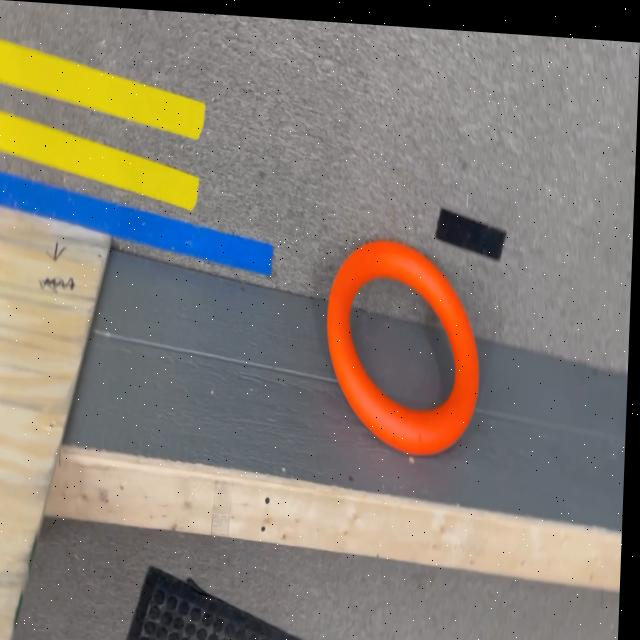note: (325, 234, 486, 454)
